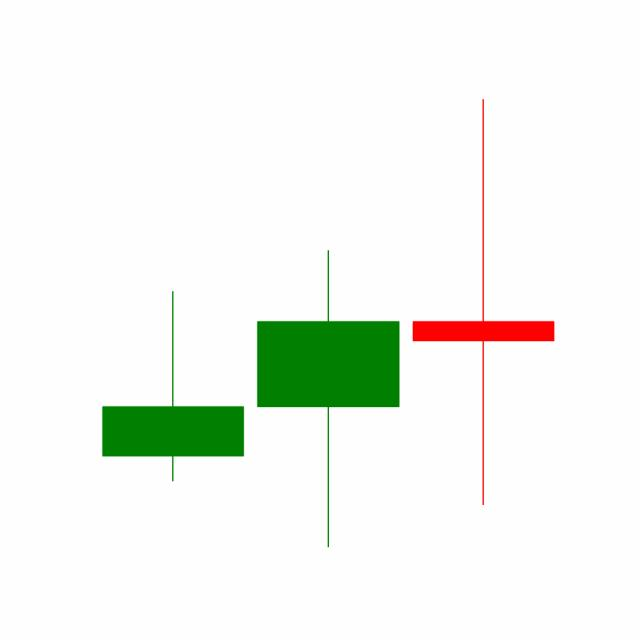Spinning Top: (405, 95, 561, 509)
